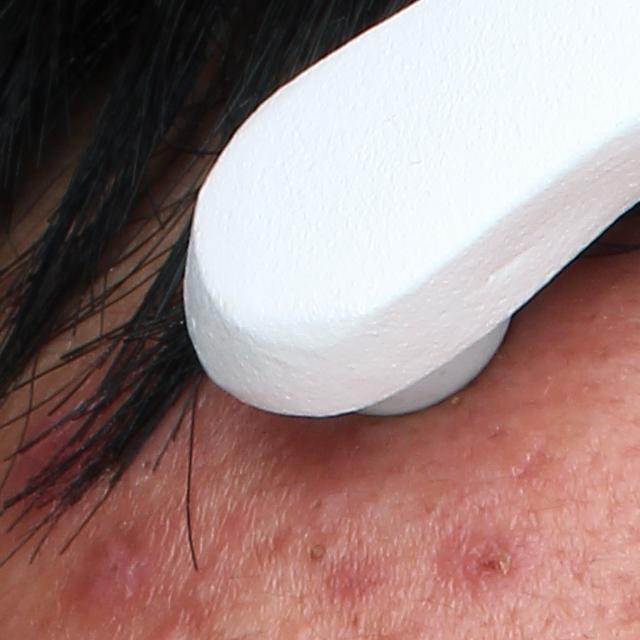atrophic_scar: (433, 500, 506, 604), (516, 441, 546, 486)
comedo: (306, 538, 331, 570)
papule: (465, 548, 515, 589)
